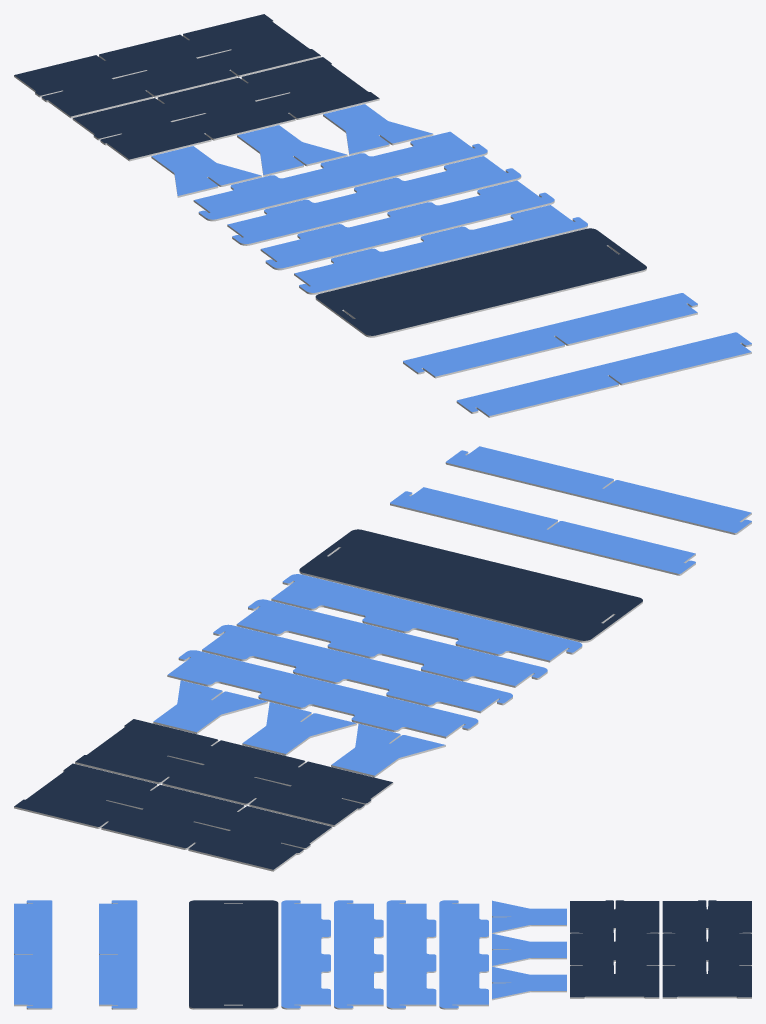
The model's file is 20_05_showroom_shelf_animation_final.glb.
3 views of the same model, one above another, from view 1: azimuth 30°, elevation 25°; view 2: azimuth 150°, elevation 25°; view 3: azimuth 270°, elevation 25° (orthographic). The views are drawn at different scales.
Visible parts, largest first — view 1: Layer 1_curve_.005, Layer 1_curve_.008, Layer 1_curve_.013, Layer 1_curve_.006, Layer 1_curve_.010, Layer 1_curve_.003, Layer 1_curve_.009, Layer 1_curve_.014, Layer 1_curve_.018, Layer 1_curve_.007, Layer 1_curve_.012, Layer 1_curve_.011; view 2: Layer 1_curve_.005, Layer 1_curve_.008, Layer 1_curve_.013, Layer 1_curve_.003, Layer 1_curve_.010, Layer 1_curve_.006, Layer 1_curve_.009, Layer 1_curve_.014, Layer 1_curve_.018, Layer 1_curve_.011, Layer 1_curve_.007, Layer 1_curve_.012; view 3: Layer 1_curve_.005, Layer 1_curve_.013, Layer 1_curve_.008, Layer 1_curve_.009, Layer 1_curve_.006, Layer 1_curve_.010, Layer 1_curve_.003, Layer 1_curve_.014, Layer 1_curve_.018, Layer 1_curve_.011, Layer 1_curve_.007, Layer 1_curve_.012.
Part boxes in pixels (box(x1,y1,x2,y2)): Layer 1_curve_.005: box(315, 228, 646, 337); Layer 1_curve_.008: box(72, 57, 379, 161); Layer 1_curve_.013: box(14, 14, 320, 118); Layer 1_curve_.006: box(294, 205, 587, 294); Layer 1_curve_.010: box(193, 131, 487, 221); Layer 1_curve_.003: box(260, 180, 554, 270); Layer 1_curve_.009: box(227, 156, 521, 245); Layer 1_curve_.014: box(456, 332, 751, 417); Layer 1_curve_.018: box(403, 293, 697, 378); Layer 1_curve_.007: box(237, 125, 347, 176); Layer 1_curve_.012: box(151, 146, 261, 197); Layer 1_curve_.011: box(323, 104, 433, 155); Layer 1_curve_.005: box(299, 529, 642, 642); Layer 1_curve_.008: box(75, 719, 393, 826); Layer 1_curve_.013: box(14, 763, 332, 871); Layer 1_curve_.003: box(236, 599, 547, 687); Layer 1_curve_.010: box(167, 650, 478, 738); Layer 1_curve_.006: box(271, 574, 582, 662); Layer 1_curve_.009: box(202, 624, 512, 713); Layer 1_curve_.014: box(445, 446, 751, 534); Layer 1_curve_.018: box(390, 487, 695, 575); Layer 1_curve_.011: box(153, 680, 267, 733); Layer 1_curve_.007: box(242, 702, 356, 755); Layer 1_curve_.012: box(331, 724, 445, 777); Layer 1_curve_.005: box(189, 900, 278, 1009); Layer 1_curve_.013: box(662, 900, 751, 998); Layer 1_curve_.008: box(570, 900, 659, 998); Layer 1_curve_.009: box(386, 900, 436, 1009); Layer 1_curve_.006: box(281, 900, 330, 1009); Layer 1_curve_.010: box(439, 900, 488, 1009); Layer 1_curve_.003: box(334, 900, 383, 1009); Layer 1_curve_.014: box(14, 900, 52, 1009); Layer 1_curve_.018: box(99, 900, 137, 1009); Layer 1_curve_.011: box(492, 966, 566, 1000); Layer 1_curve_.007: box(492, 933, 566, 966); Layer 1_curve_.012: box(492, 900, 566, 933).
Size of what is drawn, in the model's own units: 1.02 by 0.00635 by 2.94.
